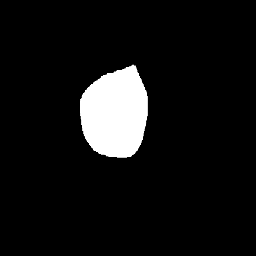mass: (82, 70, 147, 160)
